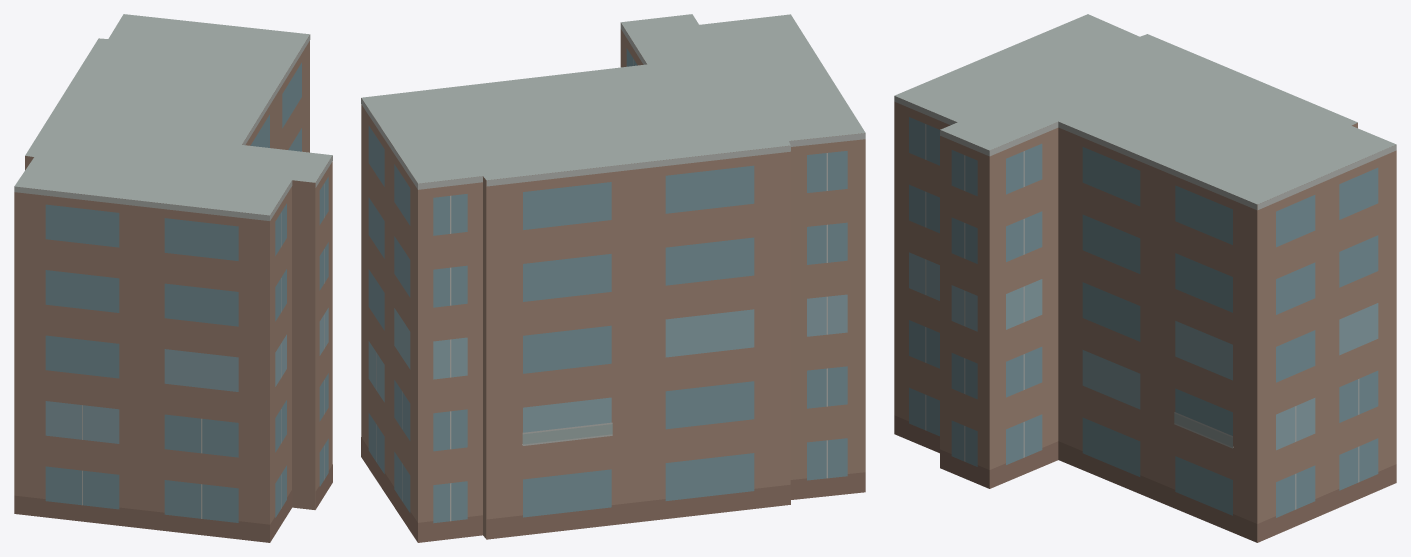
Rendered from survey-upis-33047586.glb.
3 views of the same model, side by side, from view 1: azimuth 30°, elevation 25°; view 2: azimuth 150°, elevation 25°; view 3: azimuth 270°, elevation 25° (orthographic). The views are drawn at different scales.
Parts seen in each view (by area): view 1: survey-upis-33047586.tmp; view 2: survey-upis-33047586.tmp; view 3: survey-upis-33047586.tmp.
Boxes of the visible parts, x1,y1,x2,y2 form: survey-upis-33047586.tmp: [14, 14, 332, 542]; survey-upis-33047586.tmp: [361, 14, 865, 542]; survey-upis-33047586.tmp: [894, 14, 1396, 542].
Size of the model in its own units: 17.04 by 14.1 by 18.98.
